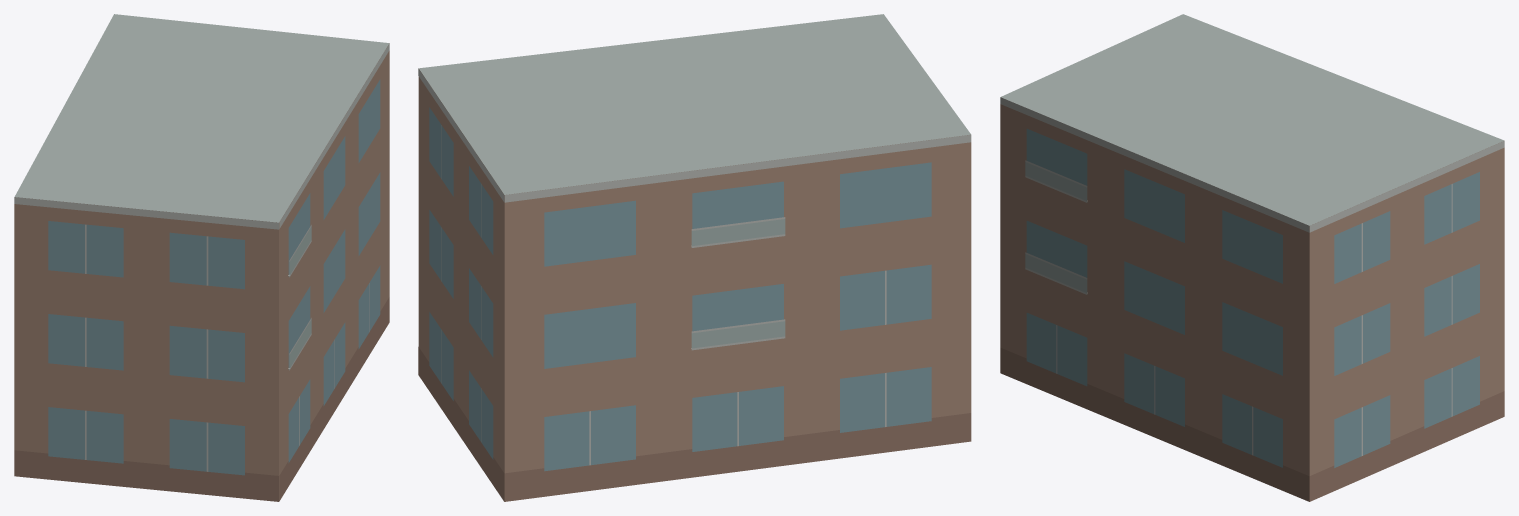
Rendered from survey-upis-33001576.glb.
3 views of the same model, side by side, from view 1: azimuth 30°, elevation 25°; view 2: azimuth 150°, elevation 25°; view 3: azimuth 270°, elevation 25° (orthographic). The views are drawn at different scales.
Visible parts, largest first — view 1: survey-upis-33001576.tmp; view 2: survey-upis-33001576.tmp; view 3: survey-upis-33001576.tmp.
Part boxes in pixels (x1,y1,x2,y2): survey-upis-33001576.tmp: (14,14,389,501); survey-upis-33001576.tmp: (418,14,971,501); survey-upis-33001576.tmp: (1000,14,1504,501).
Size of the model in its own units: 16.03 by 9.74 by 16.13.
